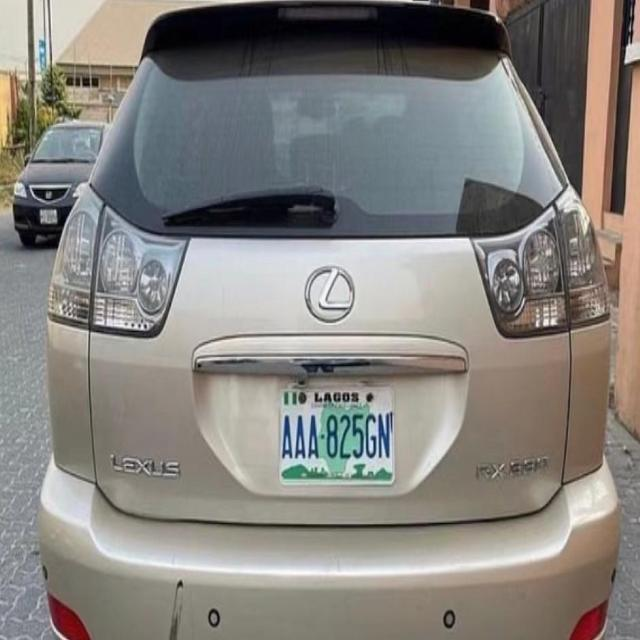Nigerian License Plate - vdataset benjamin-daria: (278, 374, 397, 491)
